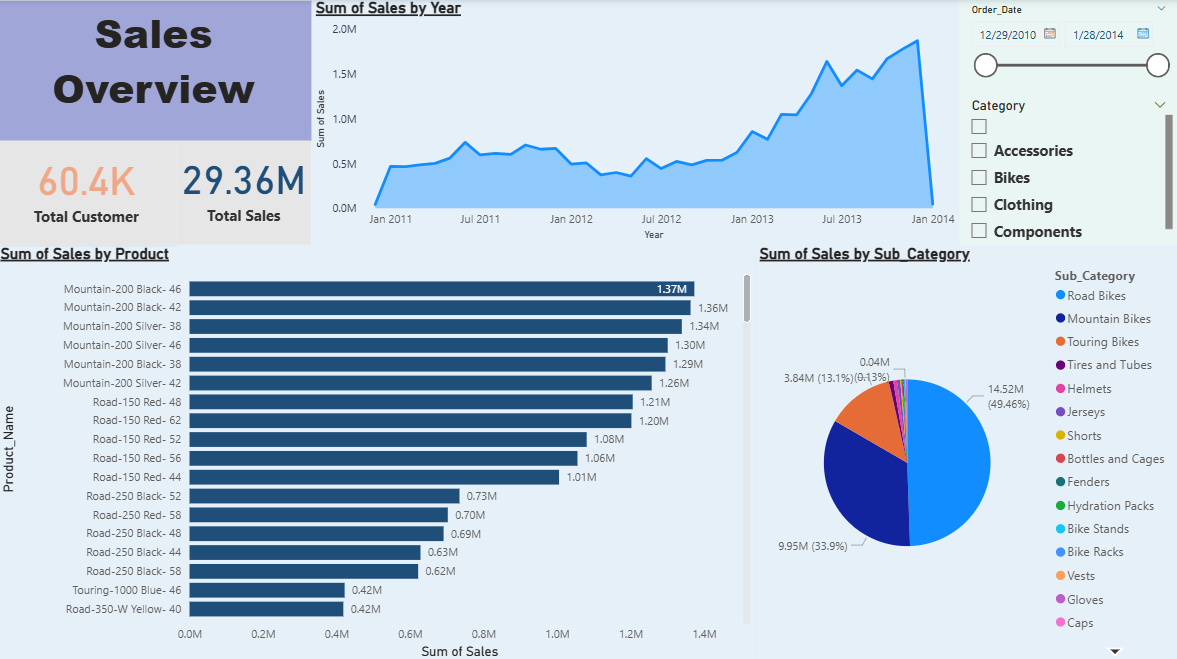

This screenshot's page, from the dashboard's own definition file:
{"tool":"powerbi","page":{"name":"Sales Overview","canvas":[1280,720],"ordinal":0},"visuals":[{"type":"card","fields":{"Values":["CountNonNull(final fact_sales.Order_Number)"]},"box":[0,136.4,195.6,131],"z":0},{"type":"card","fields":{"Values":["Sum(final fact_sales.Sales_Amount)"]},"box":[195.3,137.2,146,128.4],"z":1000},{"type":"pieChart","fields":{"Y":["Sum(final fact_sales.Sales_Amount)"],"Category":["final dim_products.Sub_Category"]},"box":[822,266,458,454],"z":2000},{"type":"clusteredBarChart","title":"Sum of Sales by Product","fields":{"Category":["final dim_products.Product_Name"],"Y":["Sum(final fact_sales.Sales_Amount)"]},"box":[0,266,822,454],"z":3000},{"type":"areaChart","title":"Sum of Sales by Year","fields":{"Category":["final fact_sales.Order_Date.Variation.Date Hierarchy.Year","final fact_sales.Order_Date.Variation.Date Hierarchy.Quarter","final fact_sales.Order_Date.Variation.Date Hierarchy.Month"],"Y":["Sum(final fact_sales.Sales_Amount)"]},"box":[342,0,702,266],"z":4000},{"type":"slicer","fields":{"Values":["final dim_products.Category"]},"box":[1044,102,236,164],"z":5000},{"type":"slicer","fields":{"Values":["final fact_sales.Order_Date"]},"box":[1044,0,236,102],"z":6000},{"type":"textbox","box":[0,1.8,341.3,151.3],"z":7000}]}

Visuals, with their boxes in screenshot pixels (x1, y1, x2, y2), scaled from the page's 1280x720 canvas onto the 1177x659 screenshot:
card - CountNonNull(final fact_sales.Order_Number): [0, 125, 180, 245]
card - Sum(final fact_sales.Sales_Amount): [180, 126, 314, 243]
pieChart - Sum(final fact_sales.Sales_Amount) x final dim_products.Sub_Category: [756, 243, 1176, 658]
"Sum of Sales by Product" clusteredBarChart: [0, 243, 756, 658]
"Sum of Sales by Year" areaChart: [314, 0, 960, 243]
slicer - final dim_products.Category: [960, 93, 1176, 243]
slicer - final fact_sales.Order_Date: [960, 0, 1176, 93]
textbox: [0, 2, 314, 140]
